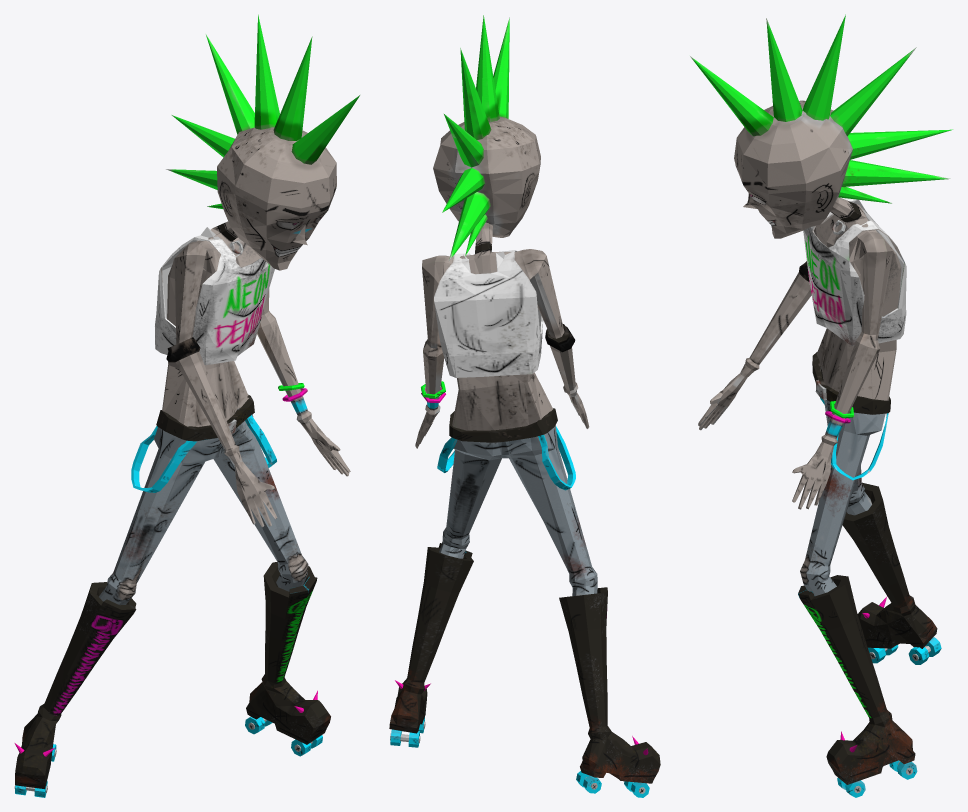
The model's file is punkAnimation_000142.obj.
3 views of the same model, side by side, from view 1: azimuth 30°, elevation 25°; view 2: azimuth 150°, elevation 25°; view 3: azimuth 270°, elevation 25° (orthographic). The views are drawn at different scales.
Parts seen in each view (by area): view 1: Cube.004_Cube.003; view 2: Cube.004_Cube.003; view 3: Cube.004_Cube.003.
Part boxes in pixels (<box>): Cube.004_Cube.003: <box>14,14,359,797</box>; Cube.004_Cube.003: <box>389,15,660,797</box>; Cube.004_Cube.003: <box>690,14,952,797</box>.
Bounding box in the file's own units: 3.03 × 7.3 × 2.31.
